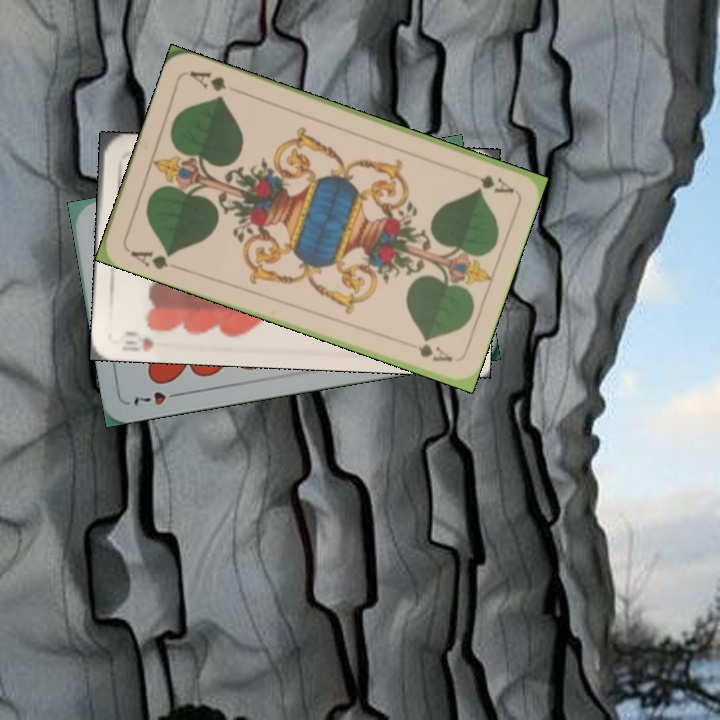GA: (459, 166, 516, 196), (126, 246, 175, 273)
H10: (118, 327, 156, 354)
H7: (130, 387, 186, 410)
